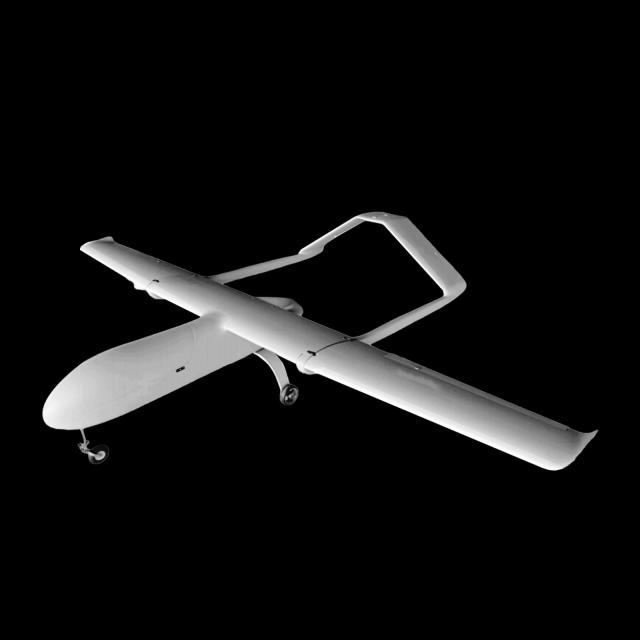iha: (4, 212, 597, 470)
